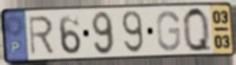6: (58, 13, 83, 56)
9: (90, 10, 116, 57), (119, 9, 145, 55)
G: (155, 9, 182, 53)
Q: (181, 5, 214, 54)
R: (27, 14, 56, 57)
